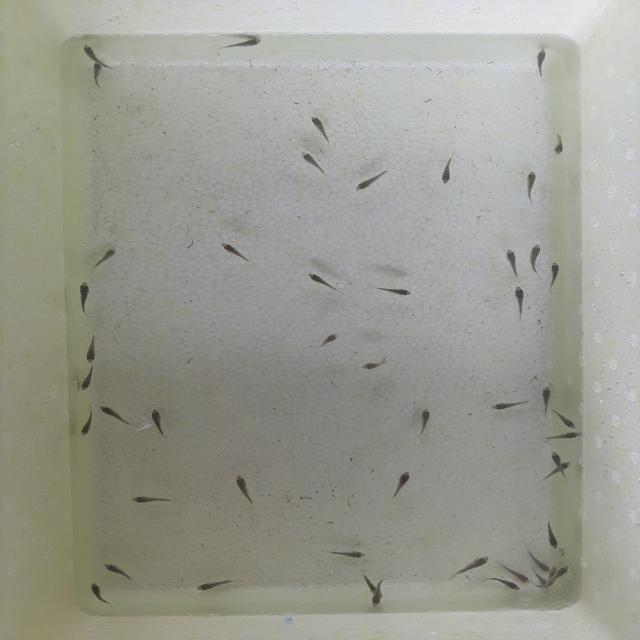fingerling: (452, 554, 492, 574), (486, 398, 526, 414), (96, 403, 131, 421), (302, 150, 328, 174), (218, 240, 249, 260), (394, 468, 418, 493), (100, 560, 131, 578), (83, 580, 110, 600), (418, 408, 437, 436), (220, 40, 268, 51), (302, 272, 334, 288), (307, 113, 328, 137), (509, 286, 530, 310), (355, 176, 386, 192), (98, 244, 120, 266), (194, 581, 235, 592), (504, 569, 536, 583), (145, 407, 167, 427), (85, 62, 109, 80), (232, 474, 250, 497), (555, 414, 580, 429), (545, 430, 582, 440), (131, 495, 172, 504), (80, 414, 96, 437), (547, 138, 566, 157), (368, 590, 388, 608), (362, 360, 392, 372), (79, 371, 97, 391), (76, 281, 90, 306), (336, 550, 370, 560), (438, 162, 452, 186), (503, 247, 517, 271), (540, 382, 555, 404), (547, 262, 563, 282), (380, 287, 415, 296), (535, 48, 548, 72), (546, 526, 559, 550), (87, 337, 99, 362), (500, 579, 521, 593), (322, 334, 343, 348), (80, 45, 99, 60), (526, 169, 537, 193), (531, 242, 543, 264), (546, 451, 565, 464), (557, 460, 574, 472), (558, 564, 568, 584), (536, 560, 552, 572)
